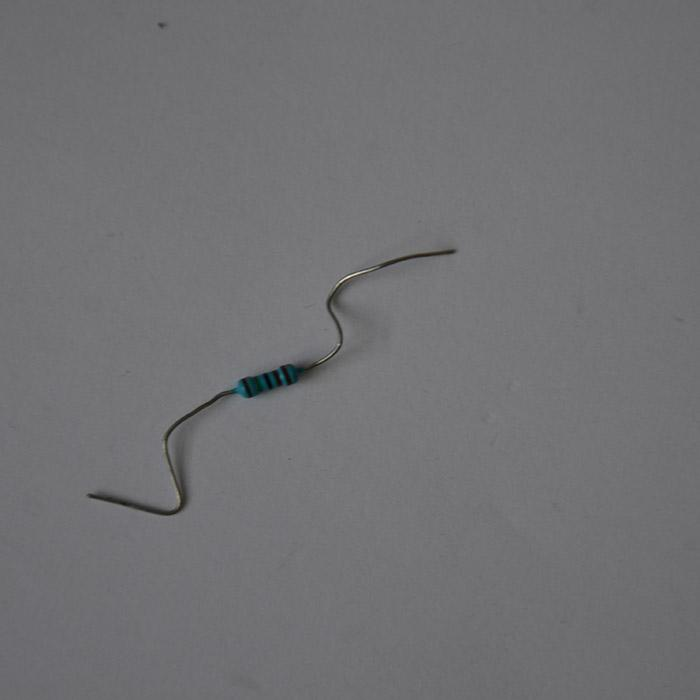resistor: (234, 362, 301, 401)
